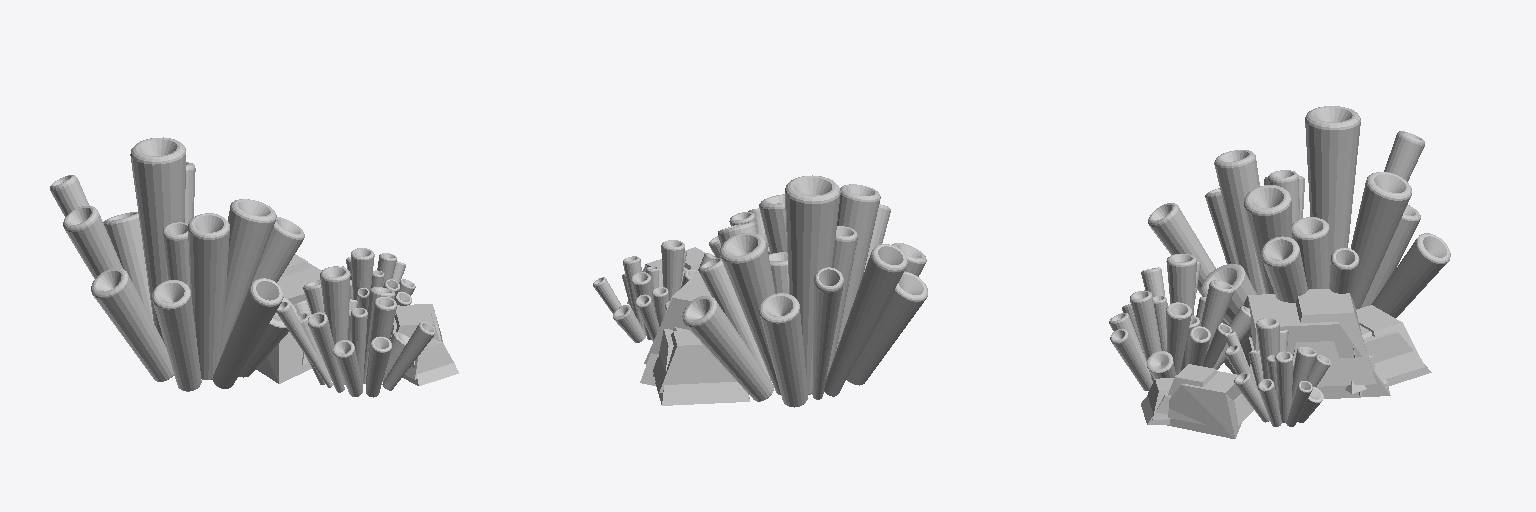
The model's file is coral_set.obj.
3 views of the same model, side by side, from view 1: azimuth 30°, elevation 25°; view 2: azimuth 150°, elevation 25°; view 3: azimuth 270°, elevation 25° (orthographic).
Parts seen in each view (by area): view 1: pCylinder35.005, pCylinder35.004, Cube.012, pCylinder35.006; view 2: pCylinder35.005, Cube.012, pCylinder35.006, pCylinder35.004; view 3: pCylinder35.005, Cube.012, pCylinder35.004, pCylinder35.006.
Part boxes in pixels (x1,y1,x2,y2): pCylinder35.005: (50, 137, 304, 391); pCylinder35.004: (276, 266, 435, 397); Cube.012: (256, 254, 458, 385); pCylinder35.006: (342, 248, 415, 311); pCylinder35.005: (682, 175, 927, 407); Cube.012: (627, 247, 749, 405); pCylinder35.006: (593, 240, 715, 342); pCylinder35.004: (709, 208, 769, 257); pCylinder35.005: (1148, 106, 1450, 325); Cube.012: (1141, 289, 1431, 438); pCylinder35.004: (1109, 253, 1250, 390); pCylinder35.006: (1224, 318, 1330, 426).
Bounding box in the file's own units: 2.17 × 1.37 × 1.97.